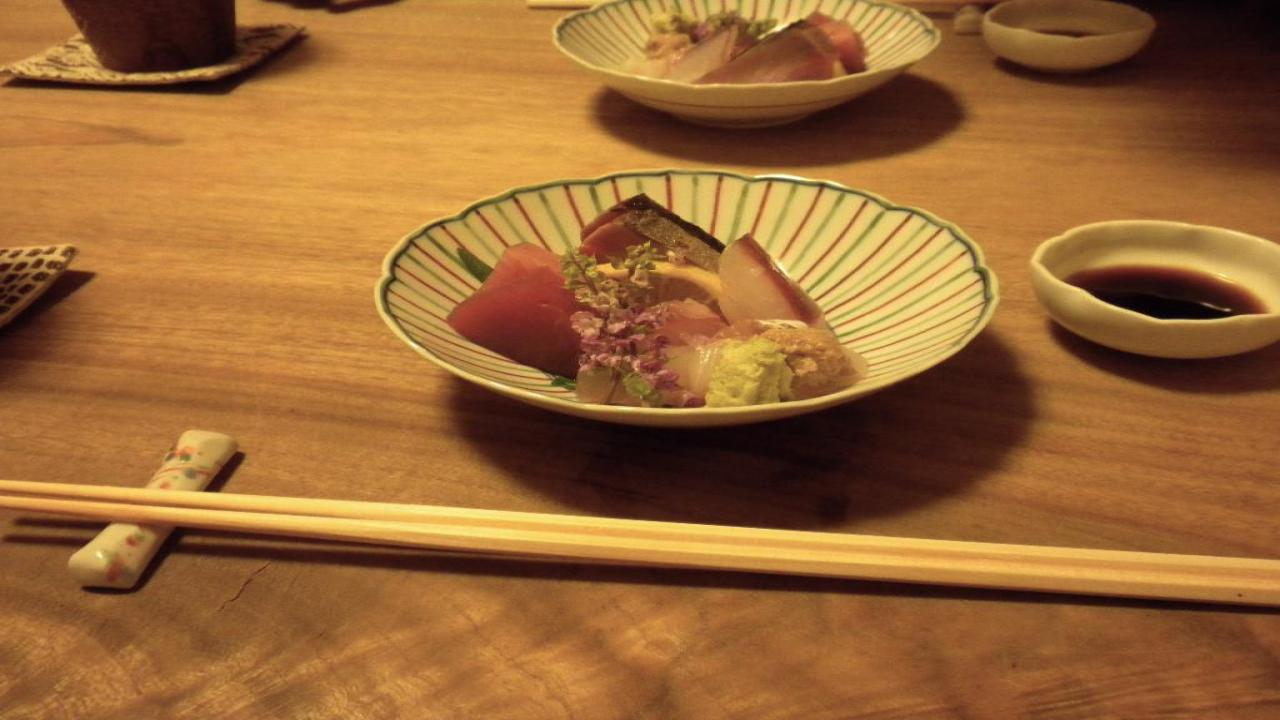chopstick: (0, 481, 1280, 610)
